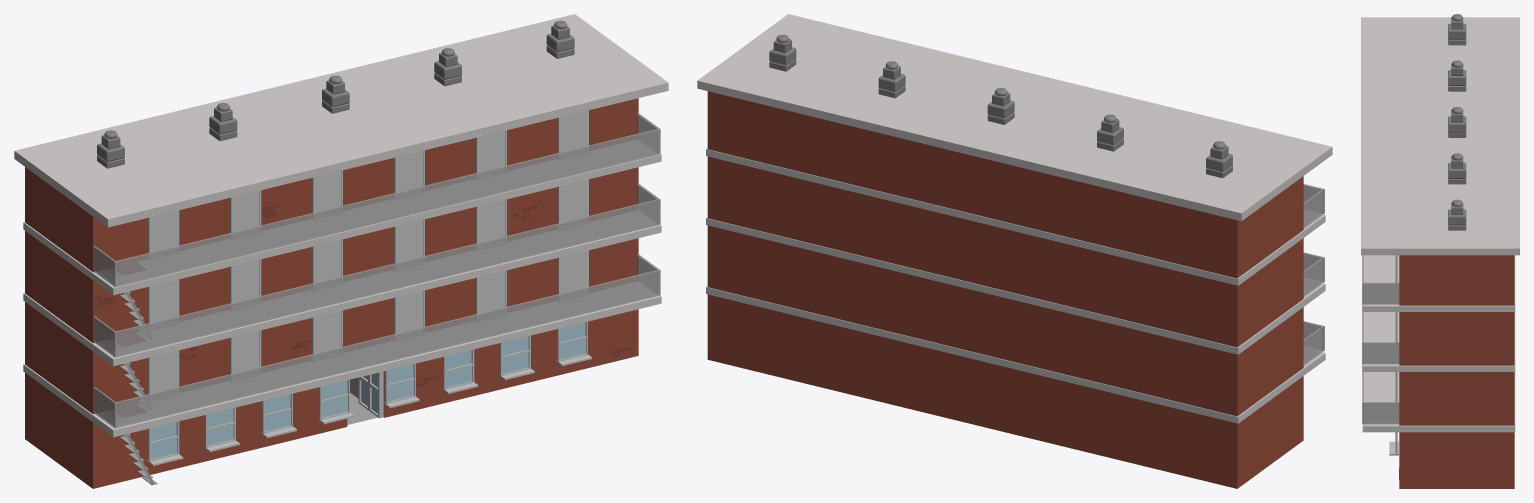
The model's file is flat_met_meterkast.fbx.
The picture shows the model from 3 angles, left to right: view 1: azimuth 30°, elevation 25°; view 2: azimuth 150°, elevation 25°; view 3: azimuth 270°, elevation 25°; orthographic projection. The views are drawn at different scales.
Visible parts, largest first — view 1: pCube1, pCube2, group3, group2, group4, pCube176, pCube175, pCube174, polySurface58, polySurface63, polySurface80, polySurface78 (+14 smaller); view 2: pCube1, pCube2, pCube176, pCube175, pCube174, group2, group4, group3; view 3: pCube2, pCube1, pCube176, pCube175, pCube174, group3, group4, group2, pCube285, pCube291, pCube283, pCube201 (+1 smaller).
Part boxes in pixels (left/top/right/bottom): pCube1: left=25, top=98, right=638, bottom=488; pCube2: left=14, top=14, right=668, bottom=227; group3: left=93, top=183, right=660, bottom=357; group2: left=93, top=113, right=660, bottom=287; group4: left=93, top=254, right=660, bottom=428; pCube176: left=23, top=295, right=661, bottom=437; pCube175: left=23, top=225, right=661, bottom=366; pCube174: left=23, top=154, right=661, bottom=295; polySurface58: left=560, top=180, right=587, bottom=222; polySurface63: left=478, top=200, right=505, bottom=242; polySurface80: left=560, top=251, right=587, bottom=293; polySurface78: left=478, top=271, right=505, bottom=313; pCube1: left=707, top=91, right=1303, bottom=488; pCube2: left=697, top=14, right=1332, bottom=221; pCube176: left=706, top=286, right=1325, bottom=423; pCube175: left=706, top=217, right=1325, bottom=354; pCube174: left=706, top=148, right=1325, bottom=285; group2: left=1303, top=184, right=1324, bottom=228; group4: left=1303, top=321, right=1324, bottom=365; group3: left=1303, top=252, right=1324, bottom=296; pCube2: left=1361, top=17, right=1519, bottom=255; pCube1: left=1399, top=255, right=1514, bottom=488; pCube176: left=1362, top=372, right=1515, bottom=432; pCube175: left=1362, top=312, right=1515, bottom=371; pCube174: left=1362, top=255, right=1515, bottom=311; group3: left=1362, top=304, right=1399, bottom=364; group4: left=1362, top=364, right=1399, bottom=424; group2: left=1362, top=255, right=1399, bottom=304; pCube285: left=1448, top=116, right=1466, bottom=132; pCube291: left=1448, top=23, right=1466, bottom=39; pCube283: left=1448, top=209, right=1466, bottom=225; pCube201: left=1448, top=162, right=1466, bottom=178.
Size of the model in its own units: 18.41 by 10.02 by 5.33.
